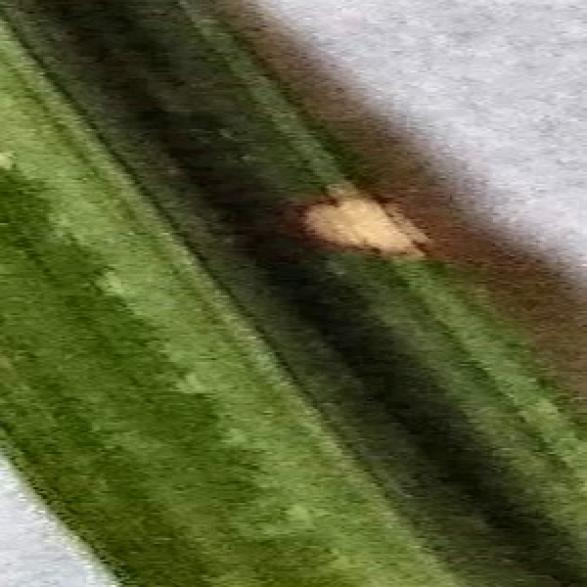Leaf_smut: (292, 178, 431, 272)
